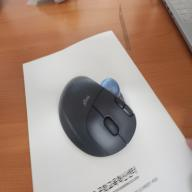mouse: (48, 57, 145, 154)
